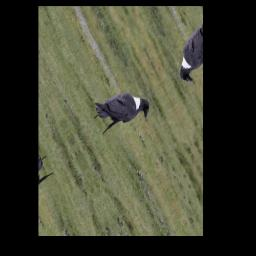Crow: (89, 72, 153, 147)
